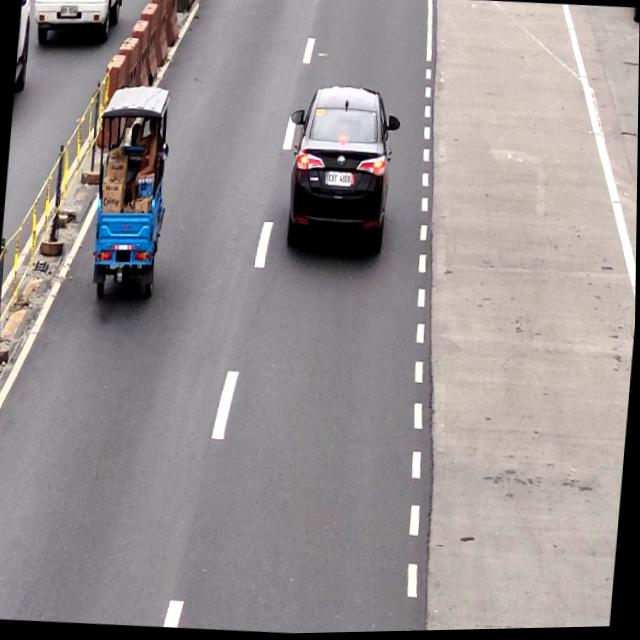Car: (282, 82, 399, 264)
License-Plate: (326, 169, 355, 192)
